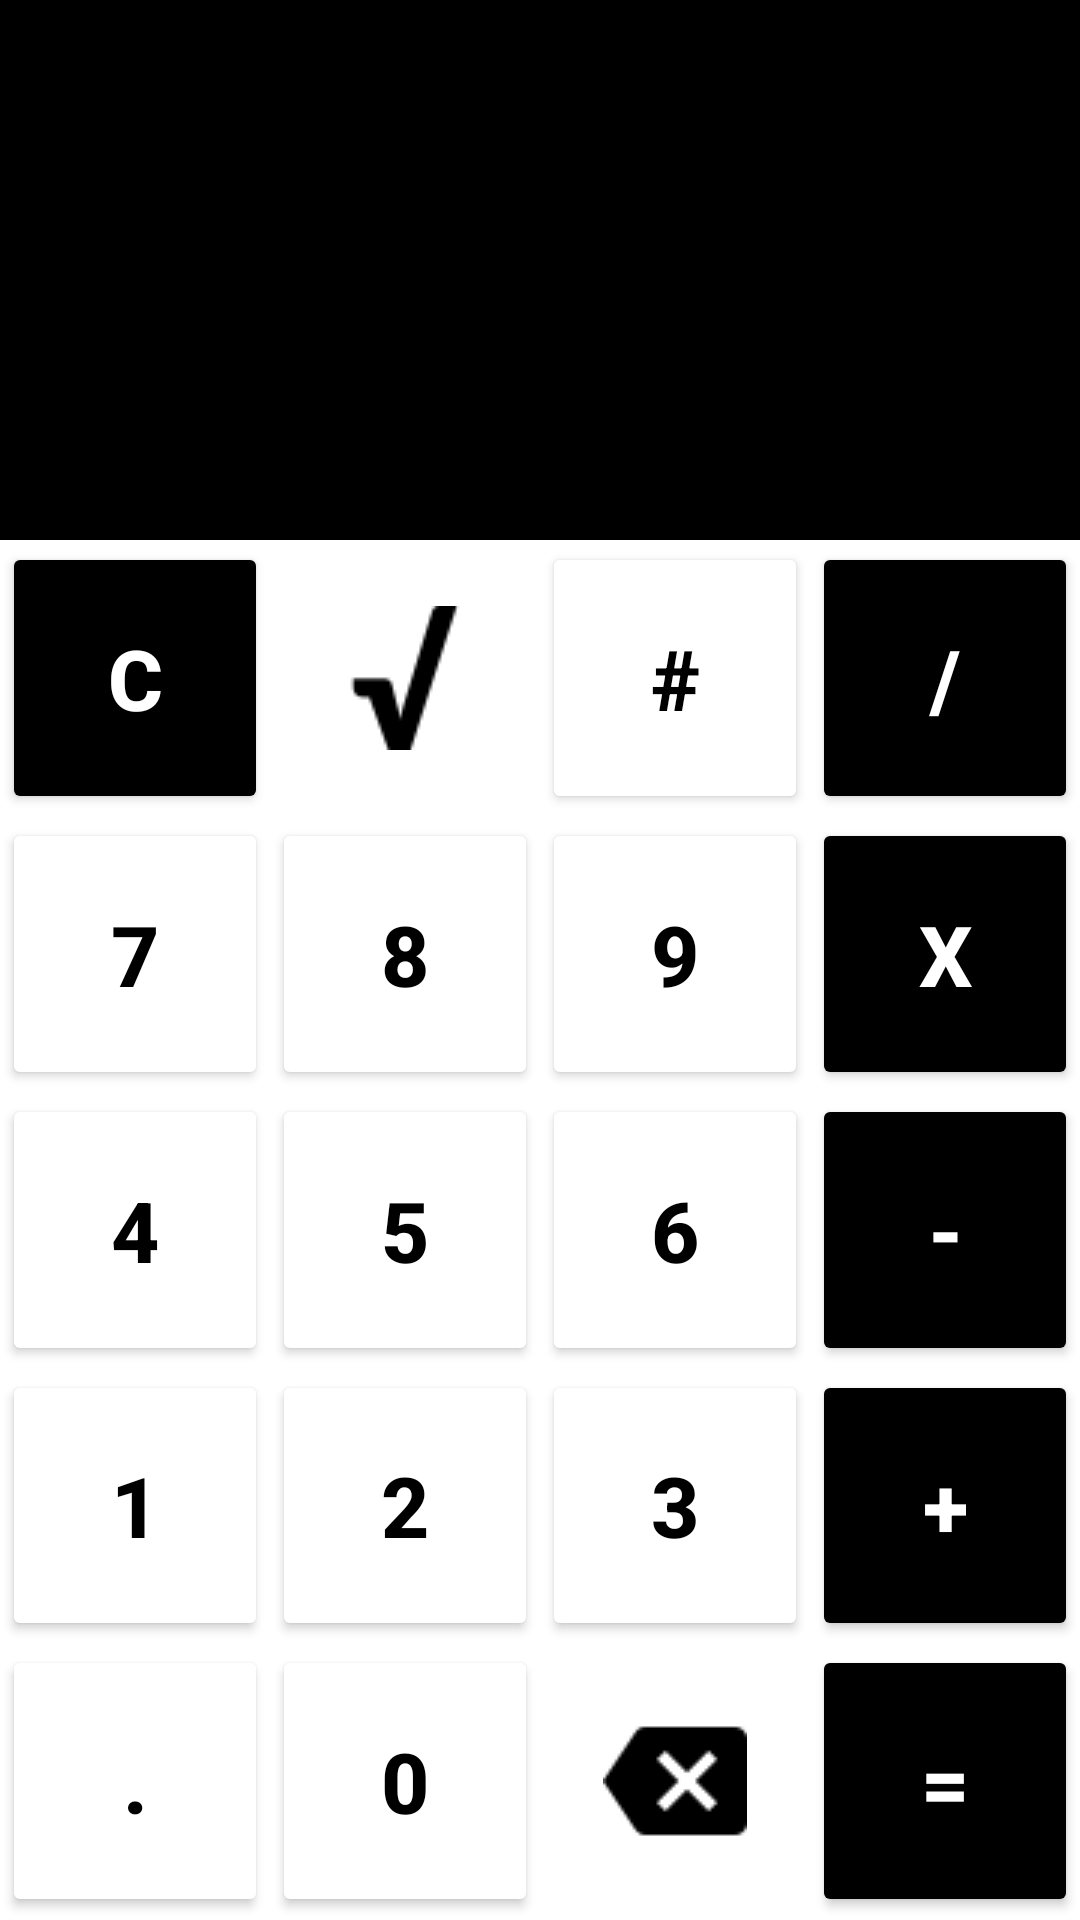

Icon bounding boxes for this 1080x1920 phone screenshot, format (x1, y1, x2, y2):
backspace: (603, 1726, 747, 1836)
square root: (351, 606, 458, 750)
